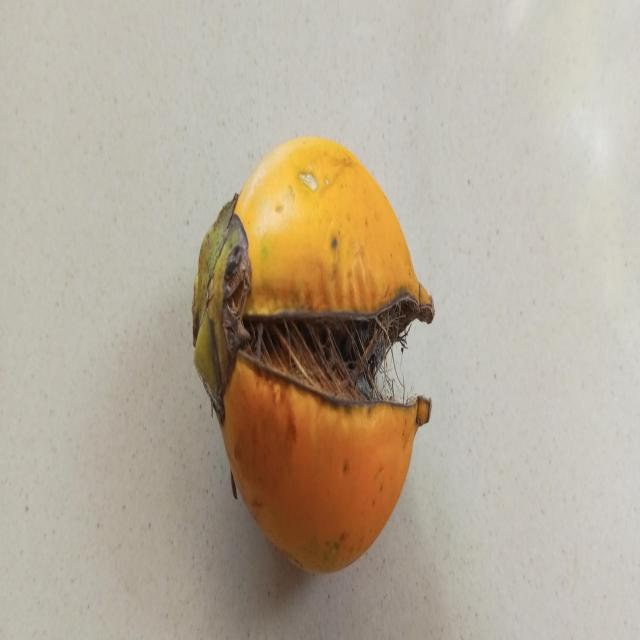damaged: (192, 137, 434, 573)
